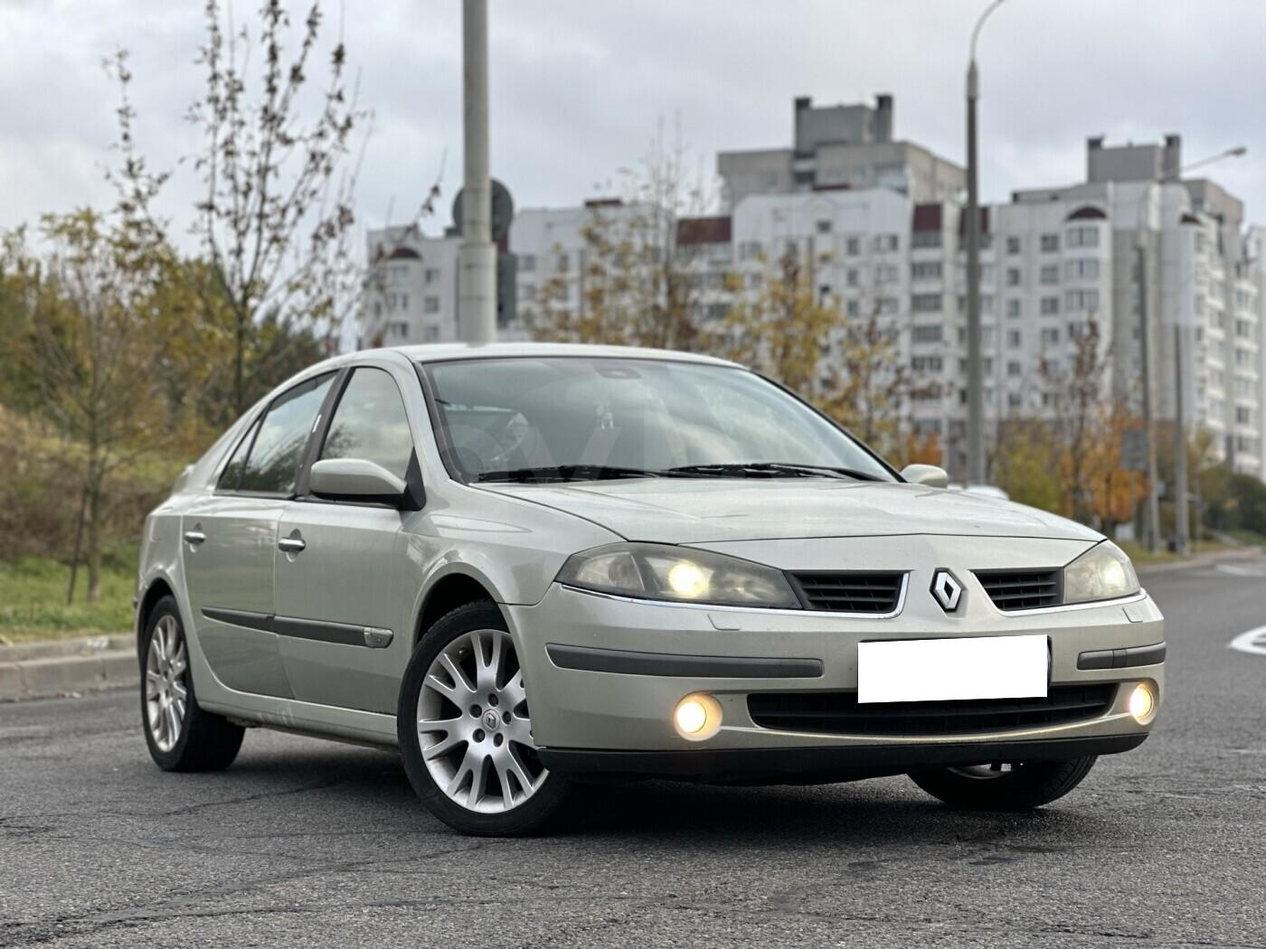Laguna_2005-2007: (119, 332, 1183, 830)
